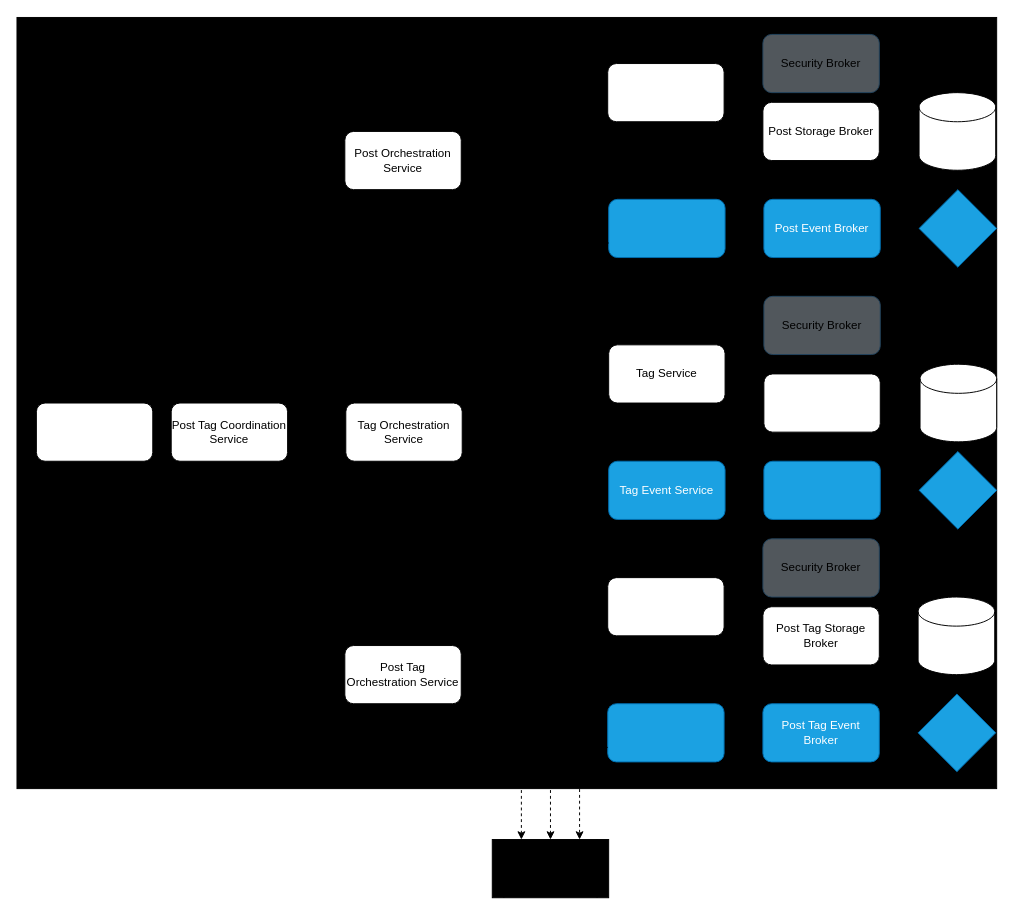
Image size: 1014x915. Some labels were removed from this diagram. Here are the shapes that lost their labels. From the top down, the centre of each, then its label:
the point at 665,92: Post Service
the point at 666,228: Post Event Service
the point at 821,402: Tag Storage Broker
the point at 94,431: Post Tag Controller
the point at 821,489: Tag Event Broker
the point at 665,606: Post Tag Service
the point at 665,732: Post Tag Event Service
